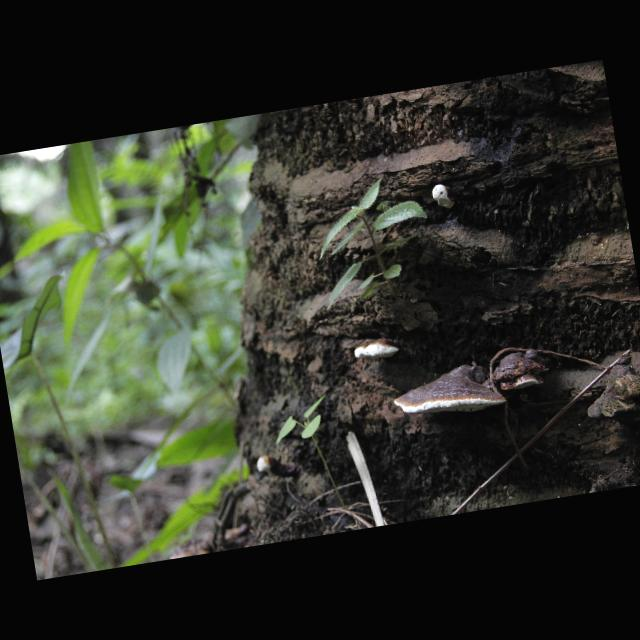ganoderma: (391, 360, 510, 426), (488, 347, 553, 395), (353, 337, 402, 365)
primordium: (431, 183, 457, 212), (256, 455, 278, 478)
